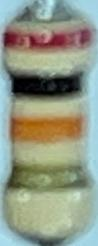Black: (8, 67, 86, 94)
Orange: (12, 114, 86, 146)
Red: (7, 28, 93, 50)
Side-Gold: (7, 161, 94, 190)
